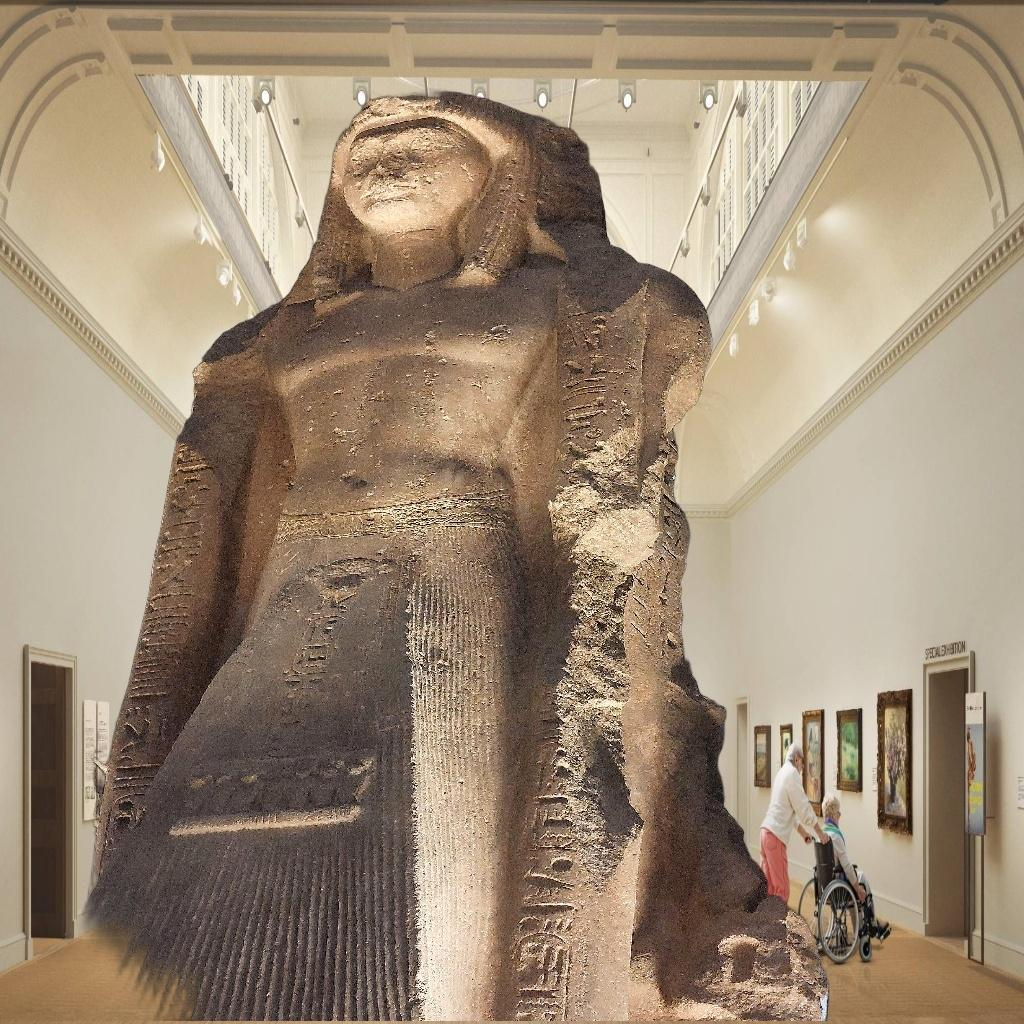Statue of King Sety Il Holding Standards: (21, 81, 832, 1021)
